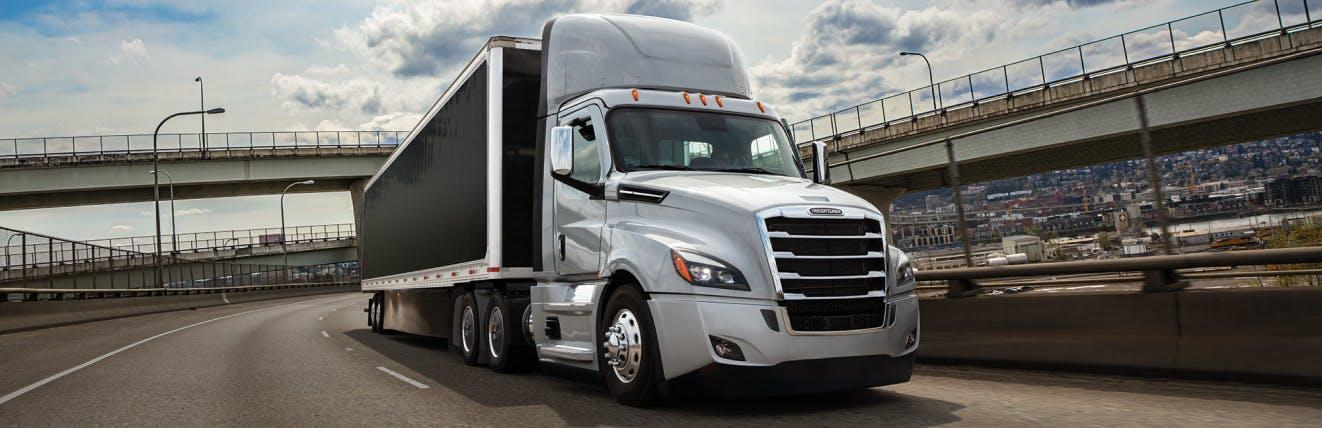truck: (357, 13, 921, 406)
